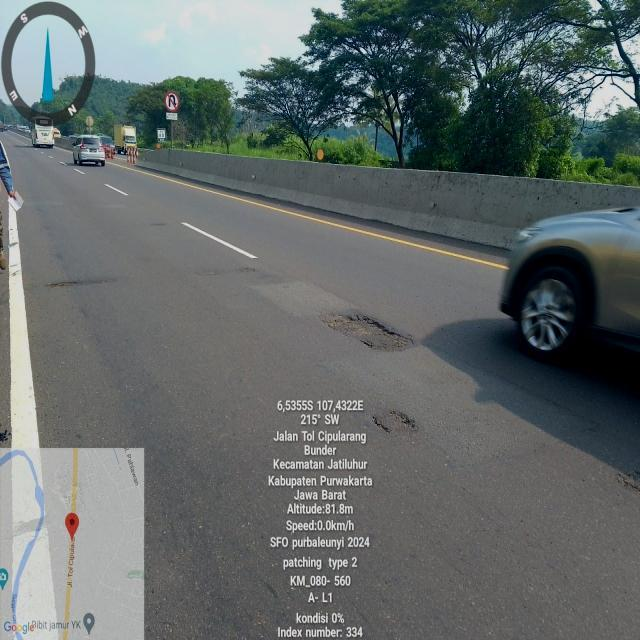Buraco: (318, 311, 419, 355), (368, 407, 422, 436), (42, 279, 81, 290)
